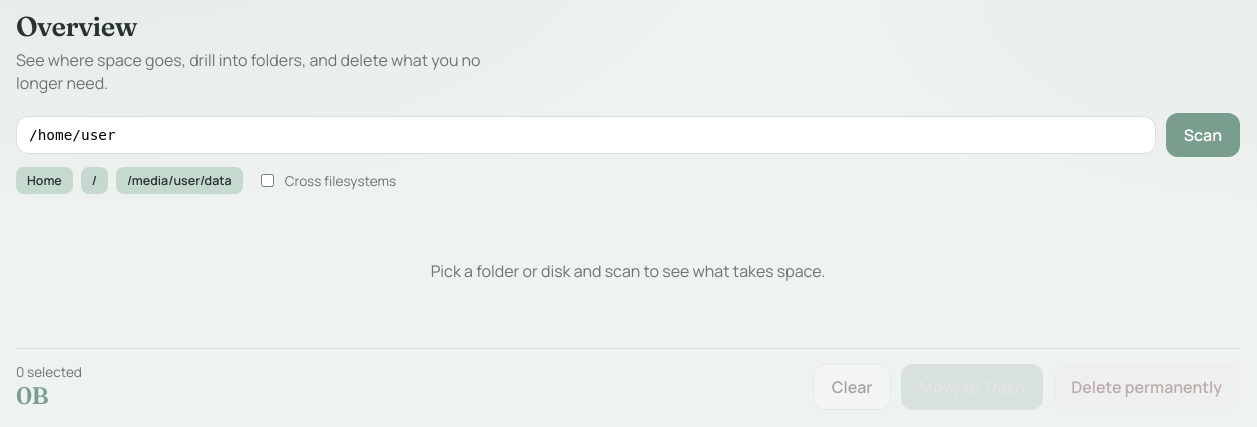
it: OverviewPanel › reports scan errors
Step 1. Replace the text in the field named "Folder to scan" with "/nope" → (586, 135), box [16, 116, 1156, 154]
Then press Enter
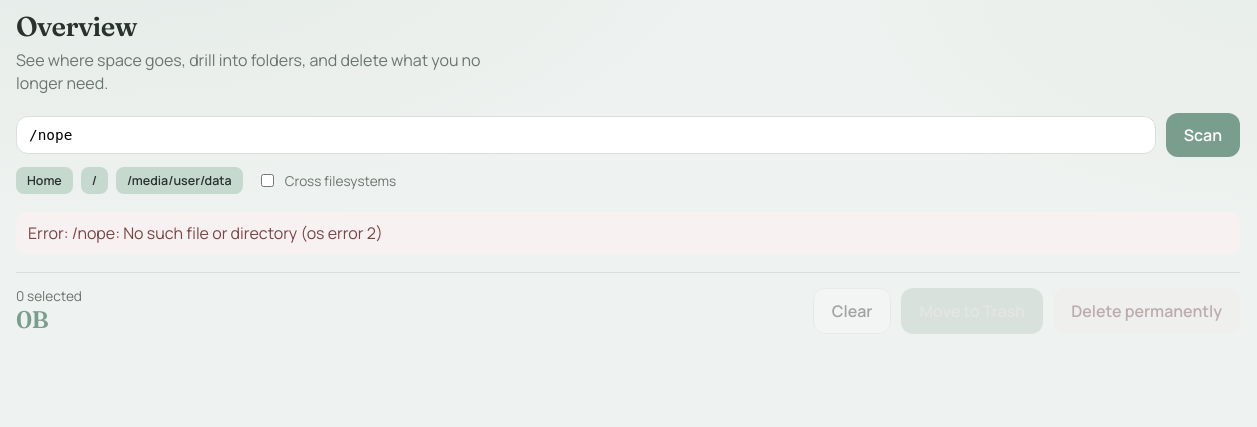
Now the message shows "No such file or directory", box [28, 222, 383, 244]
